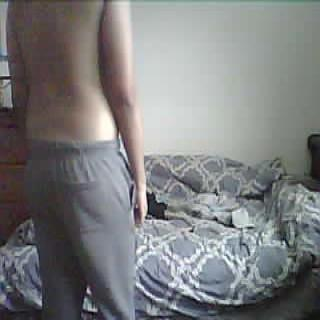Gray Sweatpants: (21, 137, 138, 320)
